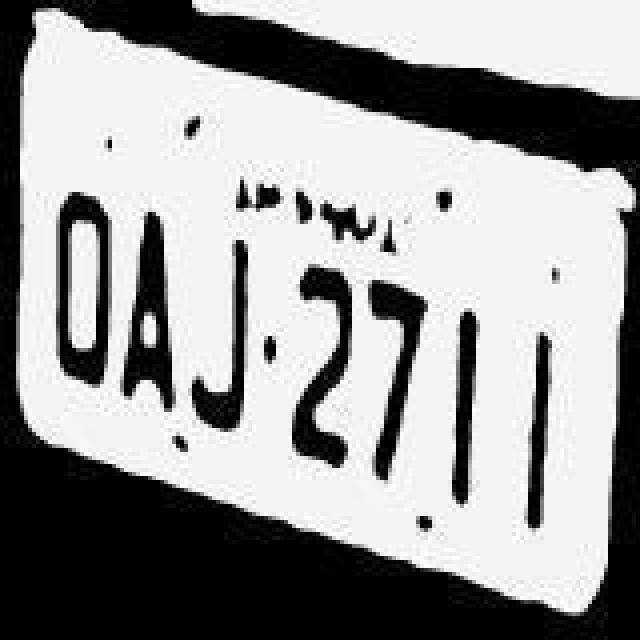1: (516, 314, 572, 566), (446, 262, 498, 522)
2: (280, 250, 360, 486)
7: (364, 266, 436, 502)
A: (114, 166, 182, 426)
J: (188, 226, 260, 446)
O: (44, 158, 116, 418)
